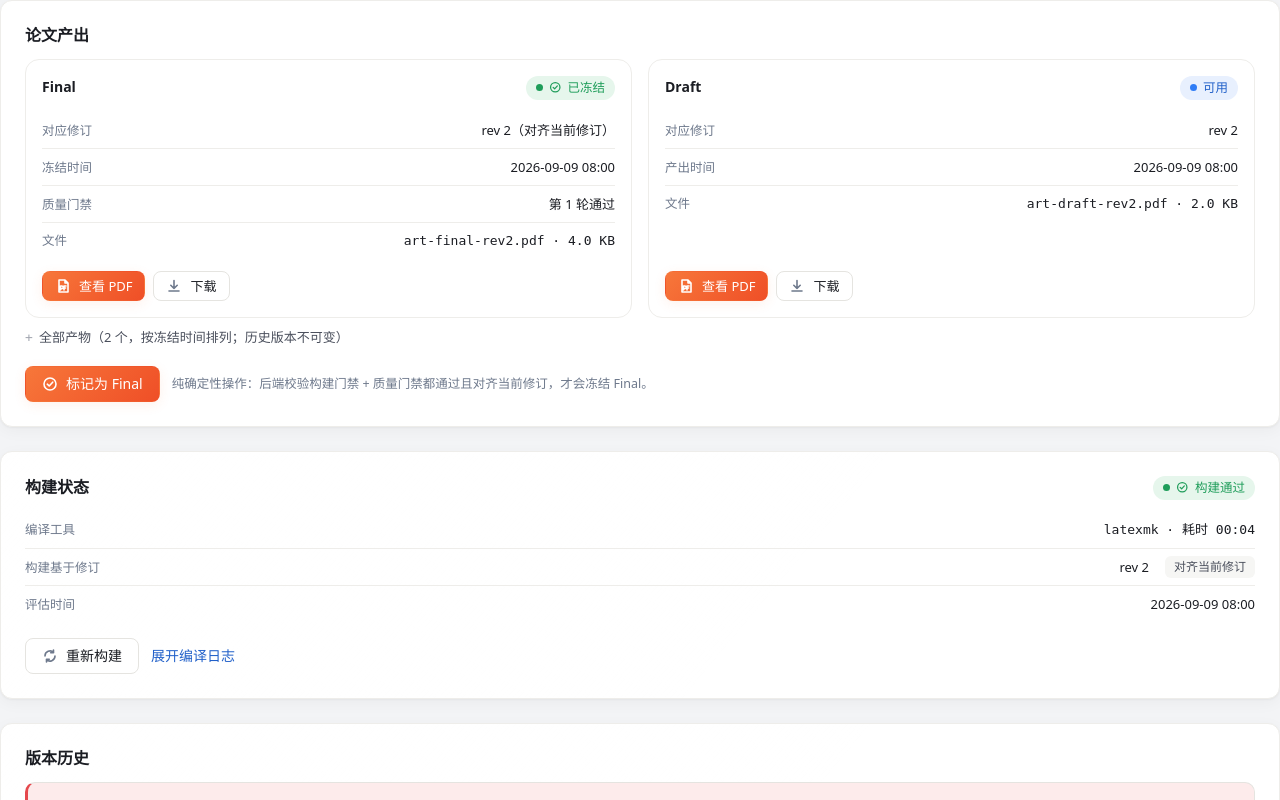
Test case: PaperPanel：标记 Final（资格由后端判定） › QUALITY_GATE_FAILED 拒绝 → 映射为 Draft 语义（不是『PDF 无法生成』）
The image size is (1280, 800).
Expected: the element with test id "final-card" is shown, [25, 59, 632, 318]
Click the button with test id "finalize-button". click: (92, 384)
box: [25, 366, 160, 402]
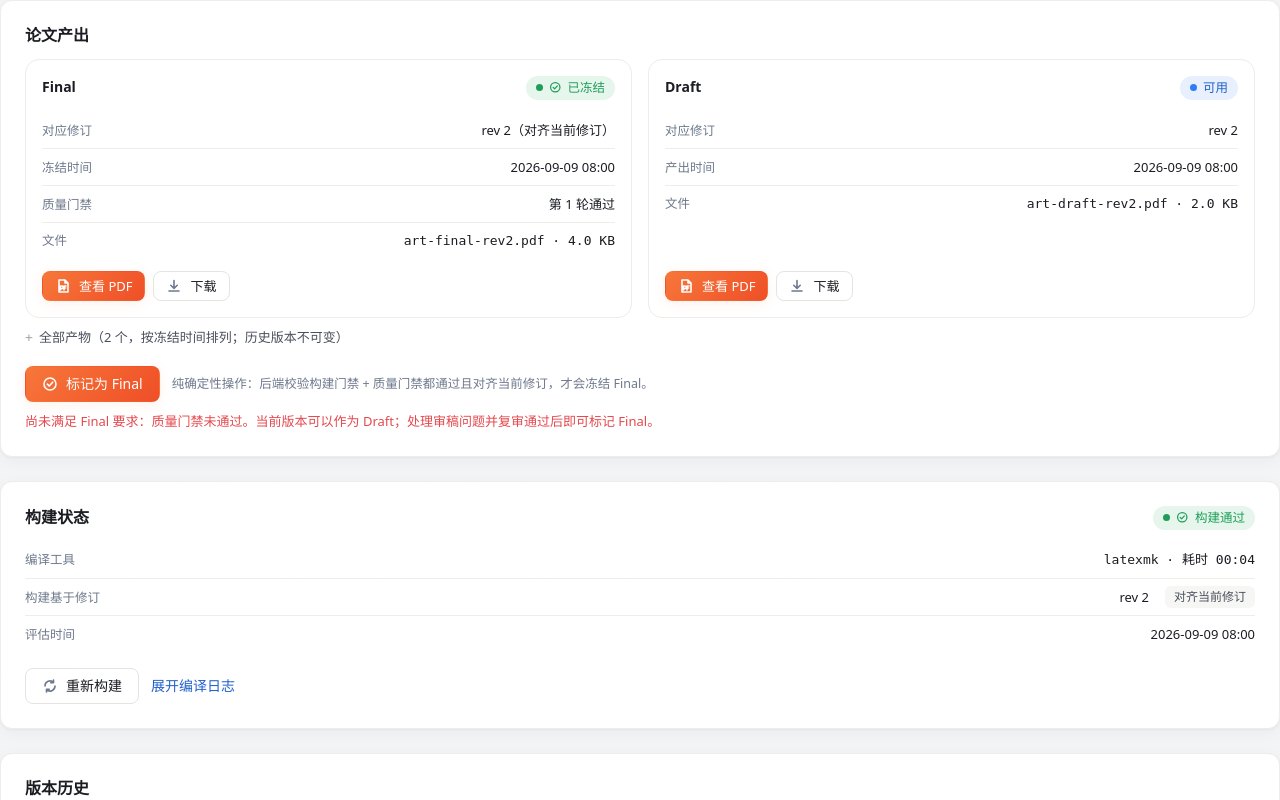
Expected: the message with test id "finalize-error" shows "尚未满足 Final 要求", [25, 412, 660, 430]
Expected: the message with test id "finalize-error" shows "当前版本可以作为 Draft", [25, 412, 660, 430]
